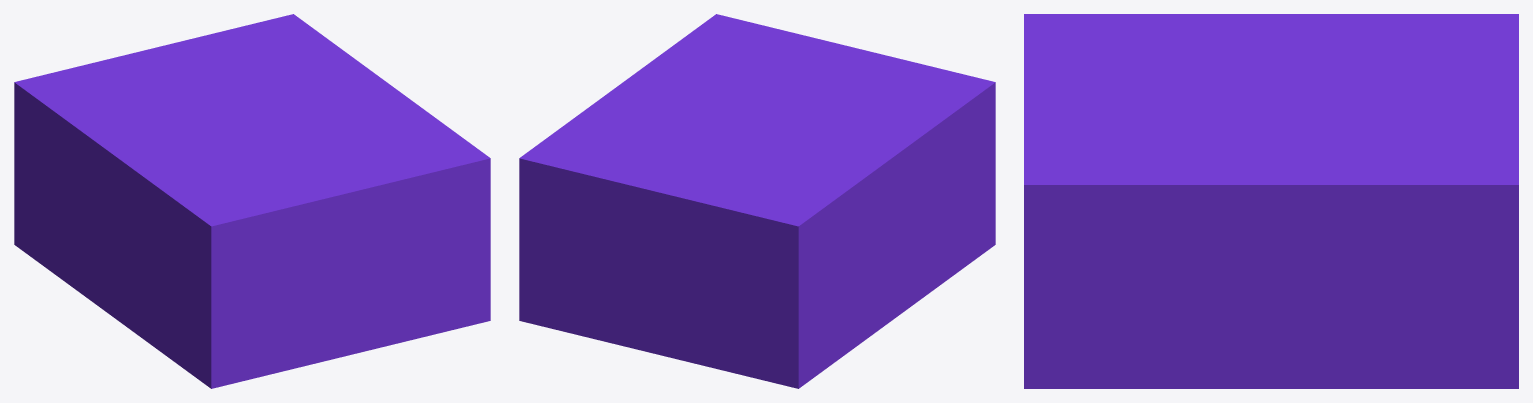
File: plenum-return.glb
The picture shows the model from 3 angles, left to right: view 1: azimuth 30°, elevation 25°; view 2: azimuth 150°, elevation 25°; view 3: azimuth 270°, elevation 25°; orthographic projection. The views are drawn at different scales.
Visible parts, largest first — view 1: hvac-plenum-return-plenum; view 2: hvac-plenum-return-plenum; view 3: hvac-plenum-return-plenum.
Boxes of the visible parts, x1,y1,x2,y2 form: hvac-plenum-return-plenum: (14,14,490,388); hvac-plenum-return-plenum: (519,14,995,388); hvac-plenum-return-plenum: (1024,14,1518,388).
Size of the model in its own units: 0.4572 by 0.254 by 0.5588.
